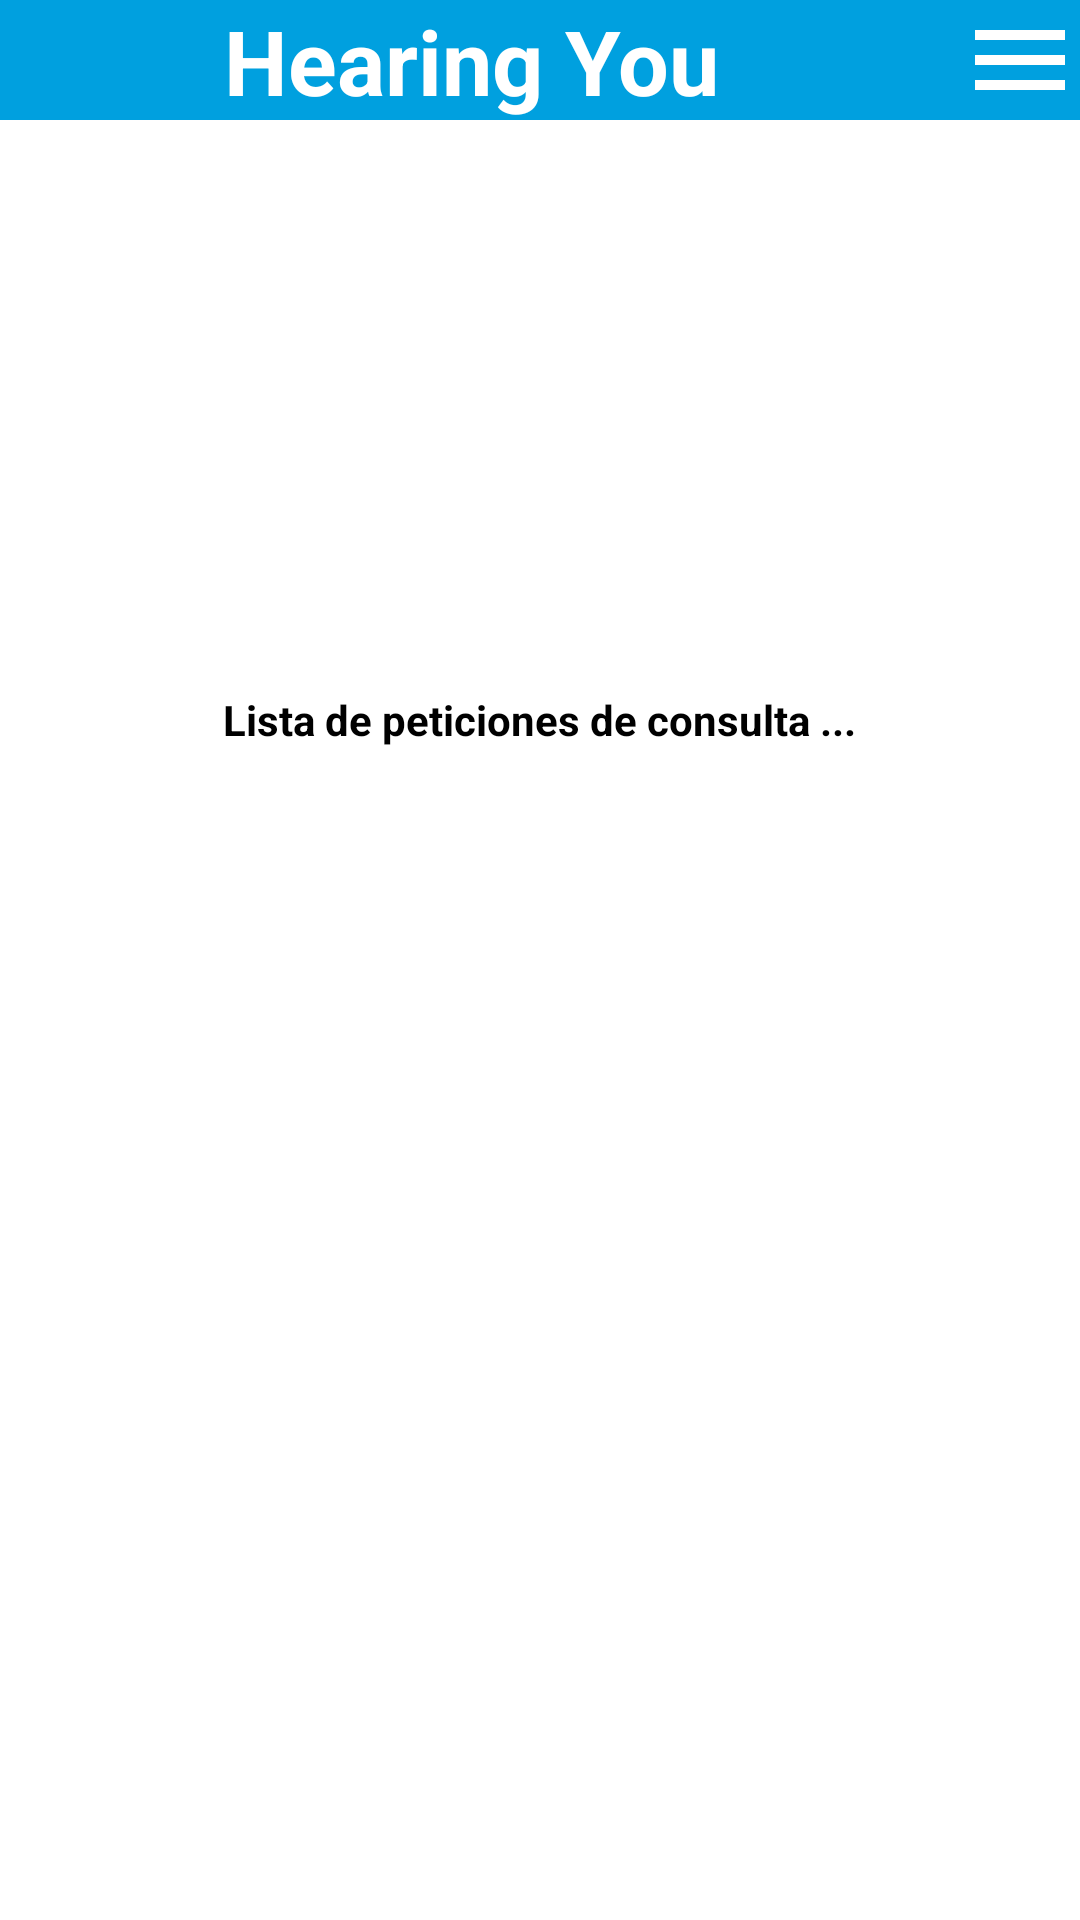

Named icons in this screenshot (1080px x 1920px) and their bounding boxes, {"left": x1, "top": y1, "right": x2, "bottom": y2}:
menu: {"left": 975, "top": 30, "right": 1065, "bottom": 90}
